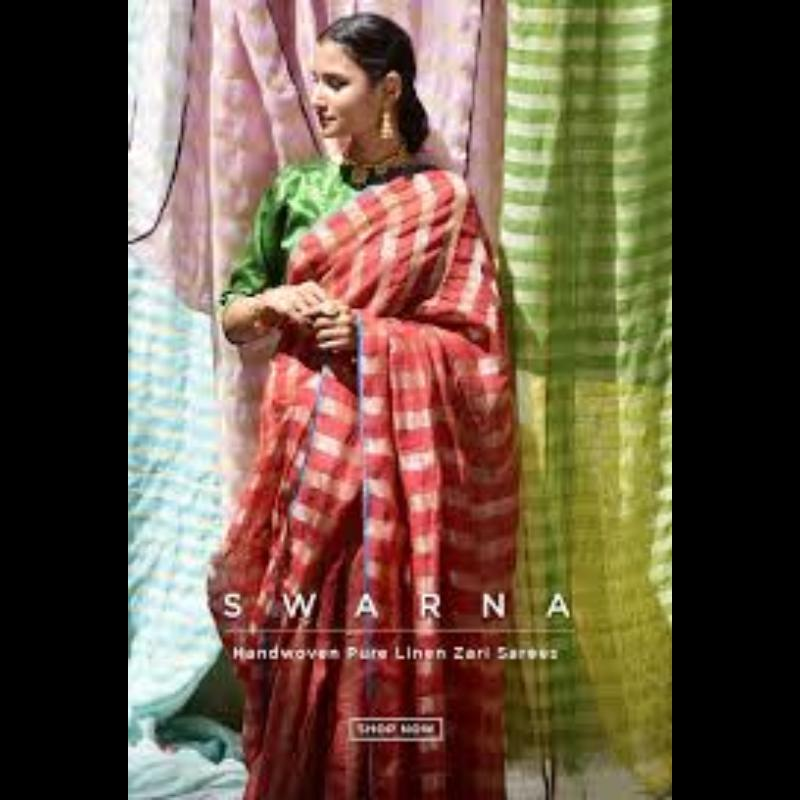Saree: (181, 137, 628, 799)
